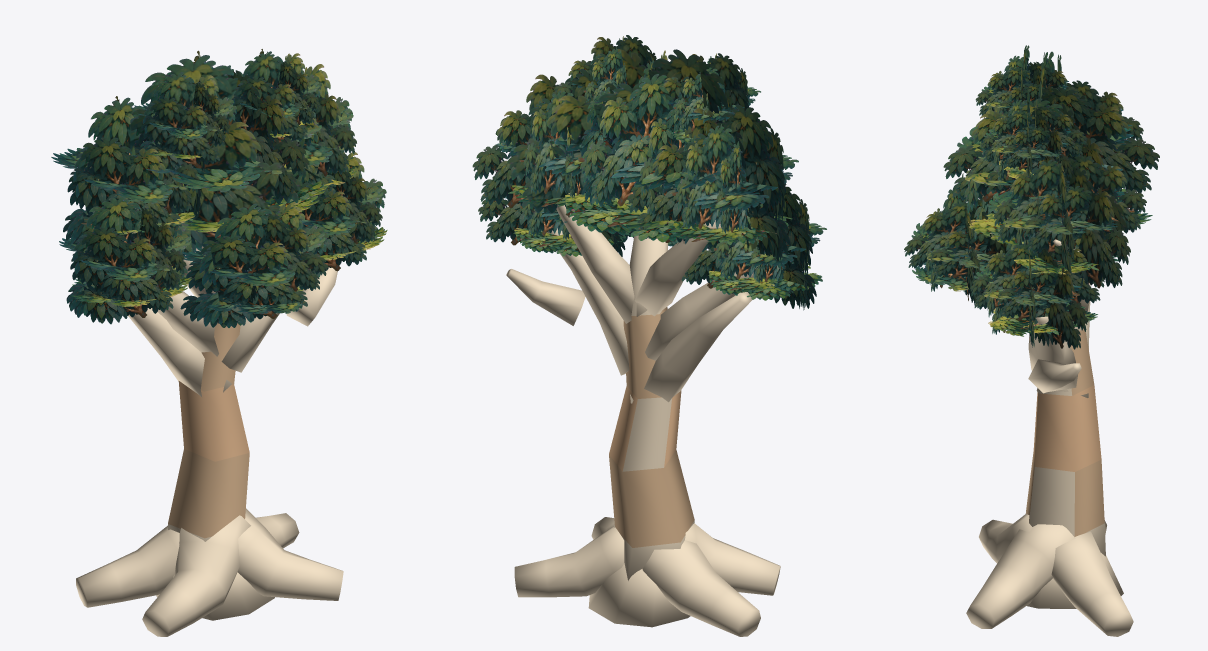
The model's file is TREE_EUCALYPTUS_001_v012_LOD_MAP.glb.
3 views of the same model, side by side, from view 1: azimuth 30°, elevation 25°; view 2: azimuth 150°, elevation 25°; view 3: azimuth 270°, elevation 25° (orthographic). The views are drawn at different scales.
Parts seen in each view (by area): view 1: TREE_EUCALYPTUS_001_MAP_AUTHORED_FOLIAGE_ISLANDS, TREE_EUCALYPTUS_001_MAP_MAIN_TRUNK, TREE_EUCALYPTUS_001_MAP_ROOT_FRONT_LEFT, TREE_EUCALYPTUS_001_MAP_ROOT_FRONT_RIGHT, TREE_EUCALYPTUS_001_MAP_ROOT_LONG_LEFT, TREE_EUCALYPTUS_001_MAP_LOWER_LEFT_SWEEP, TREE_EUCALYPTUS_001_MAP_MID_LEFT_ARCH, TREE_EUCALYPTUS_001_MAP_SCULPTED_ROOT_COLLAR, TREE_EUCALYPTUS_001_MAP_MID_RIGHT_SWEEP, TREE_EUCALYPTUS_001_MAP_LOWER_RIGHT_REACH, TREE_EUCALYPTUS_001_MAP_ROOT_RIGHT_SIDE; view 2: TREE_EUCALYPTUS_001_MAP_AUTHORED_FOLIAGE_ISLANDS, TREE_EUCALYPTUS_001_MAP_MAIN_TRUNK, TREE_EUCALYPTUS_001_MAP_ROOT_LONG_LEFT, TREE_EUCALYPTUS_001_MAP_ROOT_RIGHT_SIDE, TREE_EUCALYPTUS_001_MAP_LOWER_LEFT_SWEEP, TREE_EUCALYPTUS_001_MAP_SCULPTED_ROOT_COLLAR, TREE_EUCALYPTUS_001_MAP_UPPER_RIGHT_ARCH, TREE_EUCALYPTUS_001_MAP_ROOT_FRONT_LEFT, TREE_EUCALYPTUS_001_MAP_UPPER_LEFT_FORK, TREE_EUCALYPTUS_001_MAP_MID_RIGHT_SWEEP, TREE_EUCALYPTUS_001_MAP_MID_LEFT_ARCH, TREE_EUCALYPTUS_001_MAP_LOWER_RIGHT_REACH; view 3: TREE_EUCALYPTUS_001_MAP_AUTHORED_FOLIAGE_ISLANDS, TREE_EUCALYPTUS_001_MAP_MAIN_TRUNK, TREE_EUCALYPTUS_001_MAP_ROOT_FRONT_RIGHT, TREE_EUCALYPTUS_001_MAP_ROOT_RIGHT_SIDE, TREE_EUCALYPTUS_001_MAP_ROOT_FRONT_LEFT, TREE_EUCALYPTUS_001_MAP_LOWER_RIGHT_REACH, TREE_EUCALYPTUS_001_MAP_MID_RIGHT_SWEEP, TREE_EUCALYPTUS_001_MAP_SCULPTED_ROOT_COLLAR.
Part boxes in pixels (x1,y1,x2,y2): TREE_EUCALYPTUS_001_MAP_AUTHORED_FOLIAGE_ISLANDS: (51, 49, 387, 327); TREE_EUCALYPTUS_001_MAP_MAIN_TRUNK: (168, 246, 249, 541); TREE_EUCALYPTUS_001_MAP_ROOT_FRONT_LEFT: (142, 515, 250, 636); TREE_EUCALYPTUS_001_MAP_ROOT_FRONT_RIGHT: (238, 508, 343, 600); TREE_EUCALYPTUS_001_MAP_ROOT_LONG_LEFT: (76, 525, 179, 607); TREE_EUCALYPTUS_001_MAP_LOWER_LEFT_SWEEP: (128, 308, 231, 396); TREE_EUCALYPTUS_001_MAP_MID_LEFT_ARCH: (157, 291, 218, 356); TREE_EUCALYPTUS_001_MAP_SCULPTED_ROOT_COLLAR: (156, 572, 274, 620); TREE_EUCALYPTUS_001_MAP_MID_RIGHT_SWEEP: (221, 313, 279, 372); TREE_EUCALYPTUS_001_MAP_LOWER_RIGHT_REACH: (286, 267, 337, 326); TREE_EUCALYPTUS_001_MAP_ROOT_RIGHT_SIDE: (256, 513, 299, 548); TREE_EUCALYPTUS_001_MAP_AUTHORED_FOLIAGE_ISLANDS: (472, 35, 826, 310); TREE_EUCALYPTUS_001_MAP_MAIN_TRUNK: (609, 235, 694, 580); TREE_EUCALYPTUS_001_MAP_ROOT_LONG_LEFT: (642, 540, 760, 636); TREE_EUCALYPTUS_001_MAP_ROOT_RIGHT_SIDE: (514, 526, 624, 597); TREE_EUCALYPTUS_001_MAP_LOWER_LEFT_SWEEP: (630, 292, 752, 403); TREE_EUCALYPTUS_001_MAP_SCULPTED_ROOT_COLLAR: (588, 563, 690, 627); TREE_EUCALYPTUS_001_MAP_UPPER_RIGHT_ARCH: (556, 204, 647, 323); TREE_EUCALYPTUS_001_MAP_ROOT_FRONT_LEFT: (685, 523, 780, 595); TREE_EUCALYPTUS_001_MAP_UPPER_LEFT_FORK: (634, 220, 721, 316); TREE_EUCALYPTUS_001_MAP_MID_RIGHT_SWEEP: (547, 228, 629, 375); TREE_EUCALYPTUS_001_MAP_MID_LEFT_ARCH: (645, 272, 753, 360); TREE_EUCALYPTUS_001_MAP_LOWER_RIGHT_REACH: (506, 269, 585, 325); TREE_EUCALYPTUS_001_MAP_AUTHORED_FOLIAGE_ISLANDS: (904, 45, 1159, 349); TREE_EUCALYPTUS_001_MAP_MAIN_TRUNK: (1025, 329, 1105, 556); TREE_EUCALYPTUS_001_MAP_ROOT_FRONT_RIGHT: (966, 524, 1075, 628); TREE_EUCALYPTUS_001_MAP_ROOT_RIGHT_SIDE: (1051, 531, 1133, 636); TREE_EUCALYPTUS_001_MAP_ROOT_FRONT_LEFT: (979, 514, 1032, 563); TREE_EUCALYPTUS_001_MAP_LOWER_RIGHT_REACH: (1028, 359, 1081, 393); TREE_EUCALYPTUS_001_MAP_MID_RIGHT_SWEEP: (1028, 316, 1077, 391); TREE_EUCALYPTUS_001_MAP_SCULPTED_ROOT_COLLAR: (1027, 553, 1123, 608).
Bounding box in the file's own units: 4.65 × 6.9 × 3.68.
Materials: 4 (1 with a texture image).
